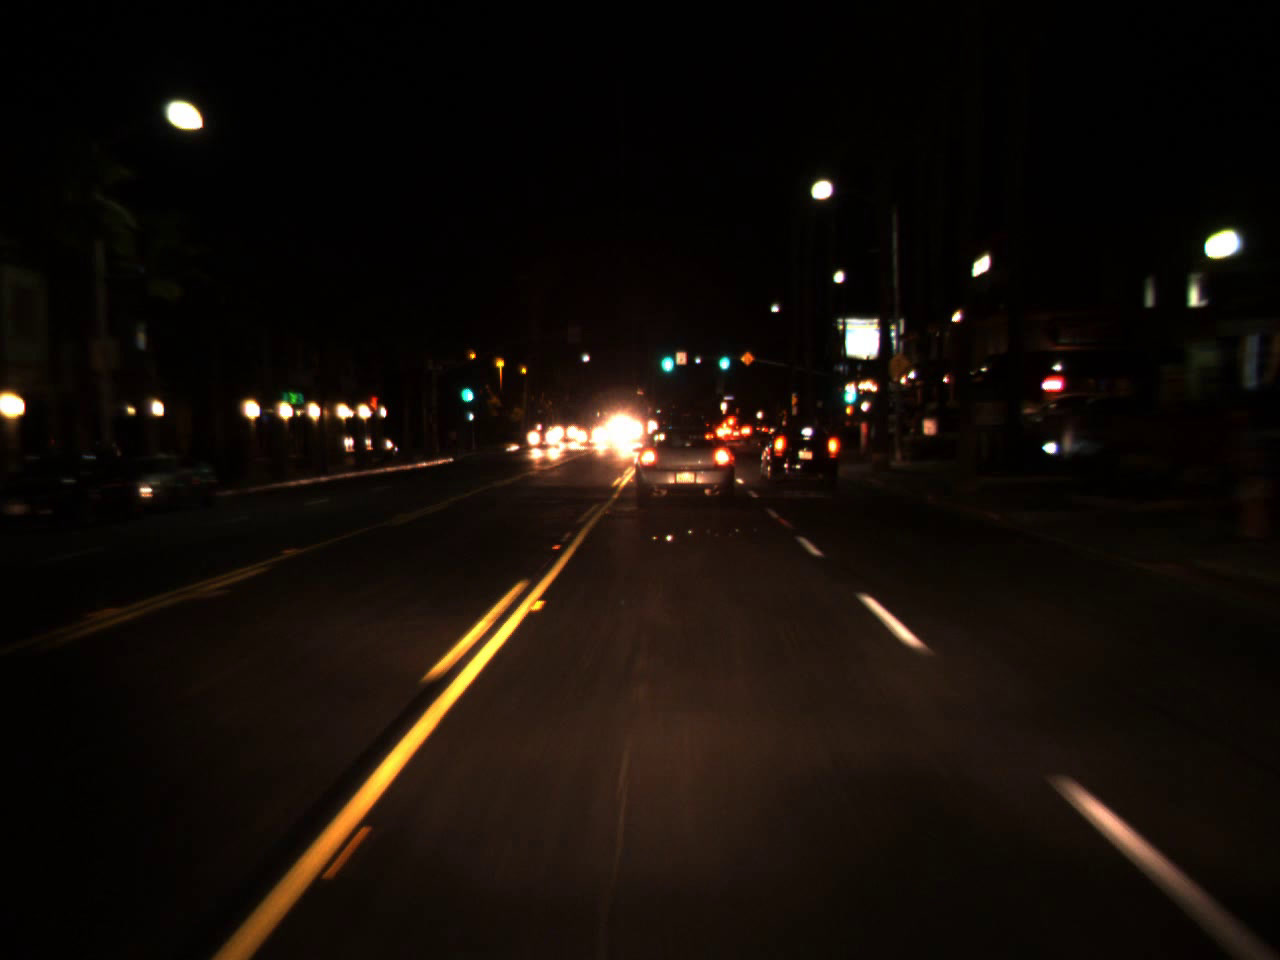go: (837, 372, 858, 408), (656, 338, 675, 377), (458, 371, 472, 407), (715, 344, 731, 371)
